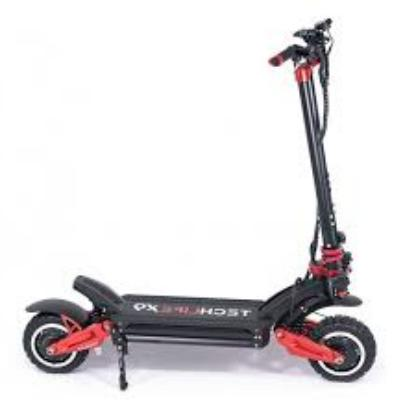bike: (21, 233, 376, 391)
